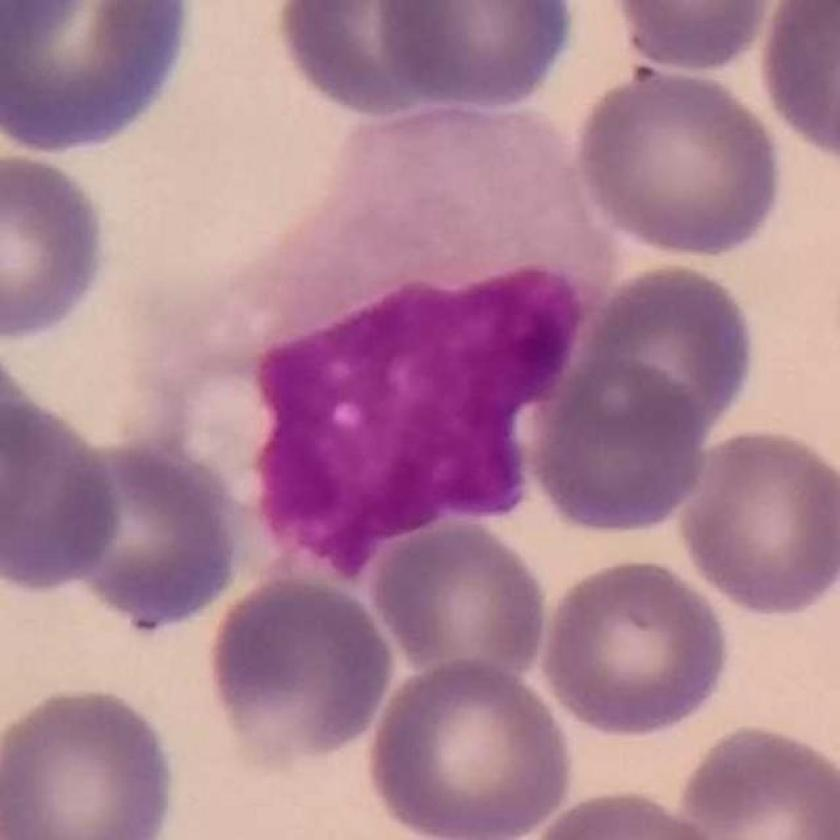monocyte: (127, 100, 618, 578)
